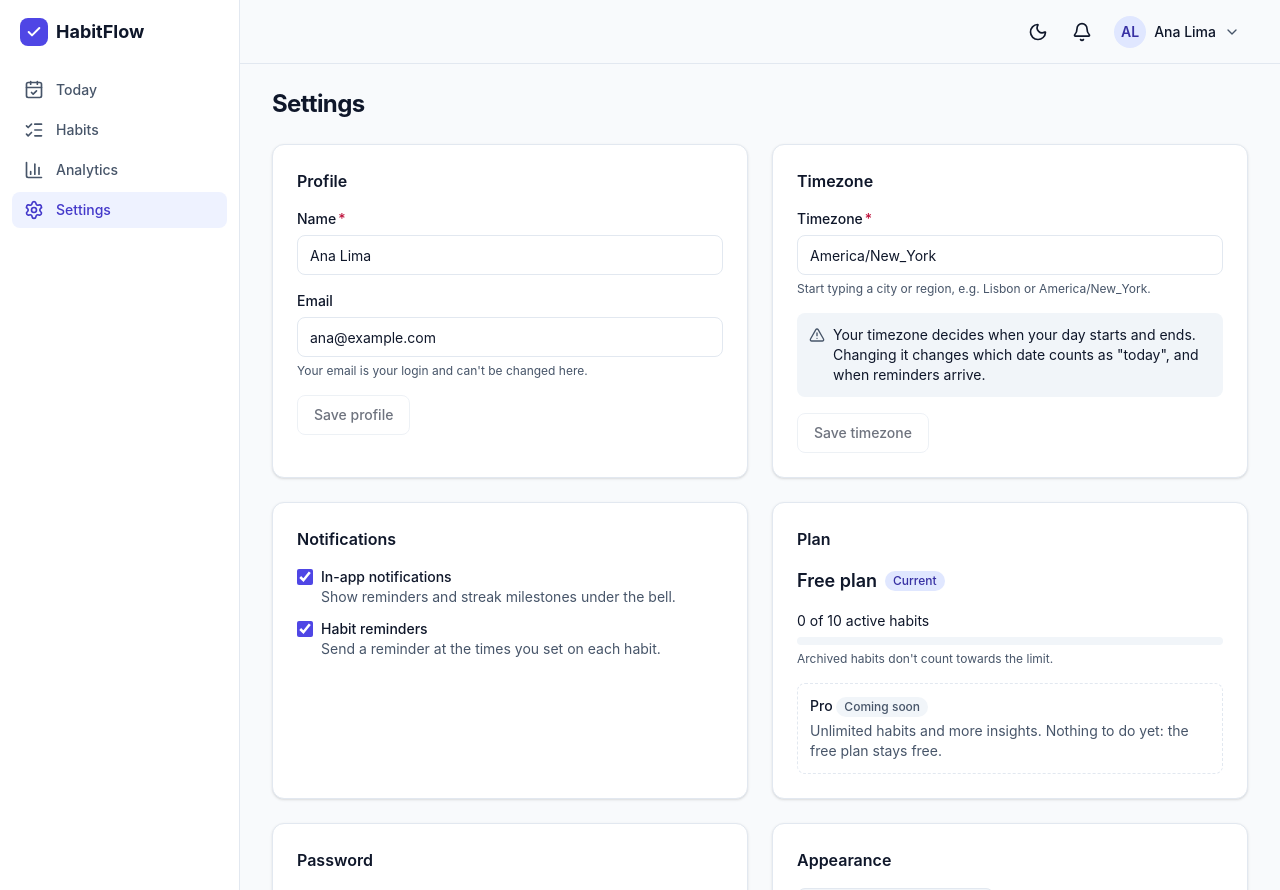
Scenario: saves the name and shows the email read-only
The width and height of the screenshot is (1280, 890).
Replace the text in the field labelled "Name*" with "Ana Maria Lima": (510, 255) [297, 235, 723, 275]
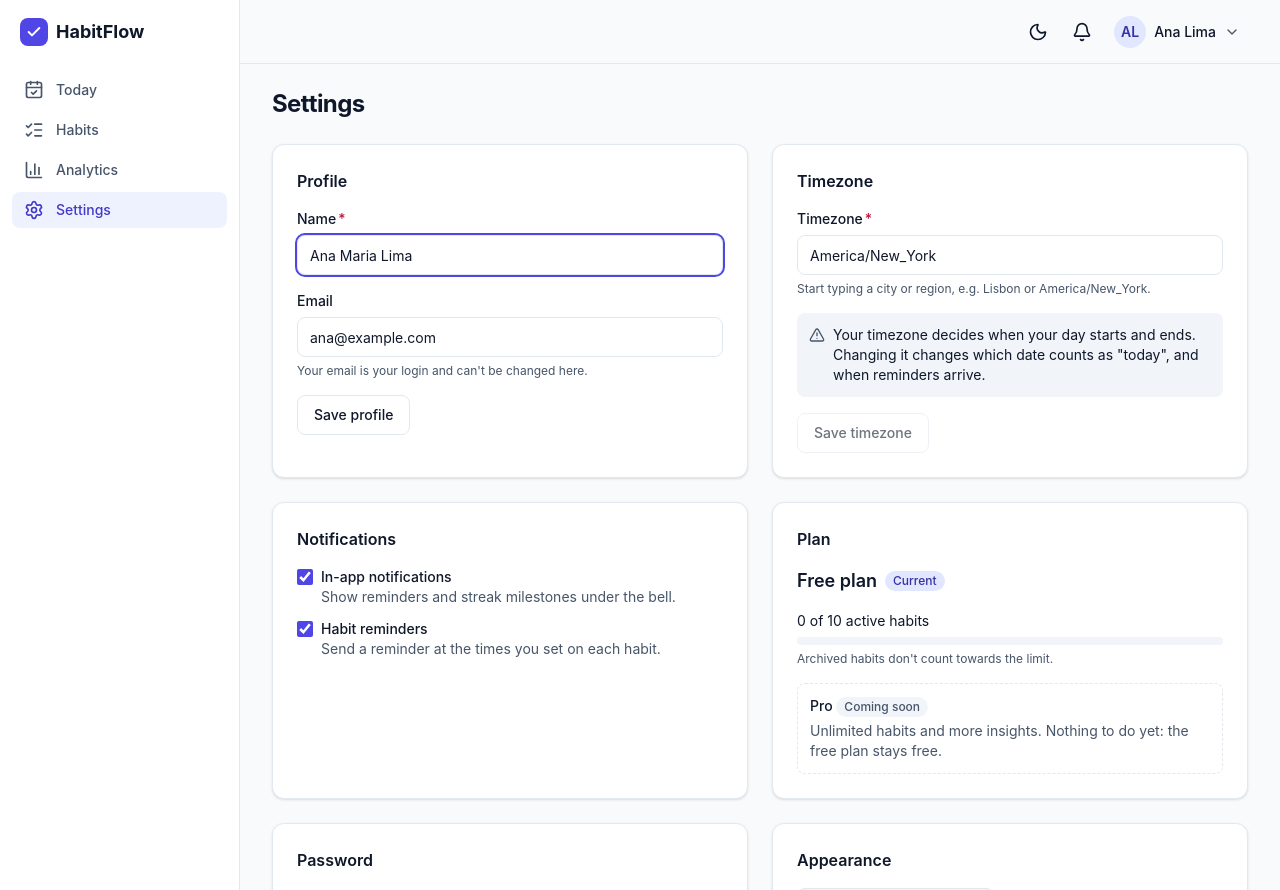
Click the button "Save profile": click(354, 415) [297, 395, 410, 435]
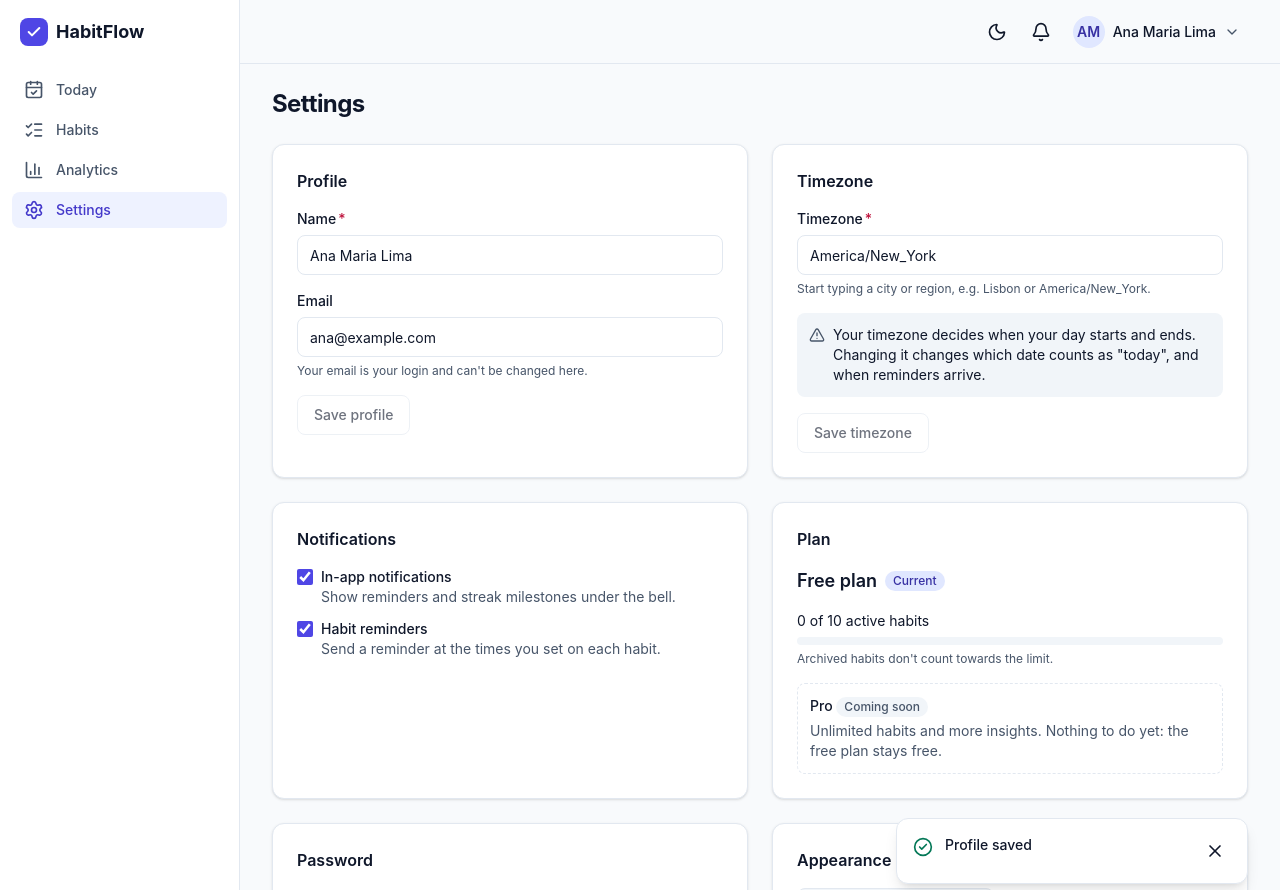
expect the text "Profile saved" is shown: met, box [945, 836, 1032, 853]
expect the text "Ana Maria Lima" is shown: met, box [1113, 22, 1216, 42]
